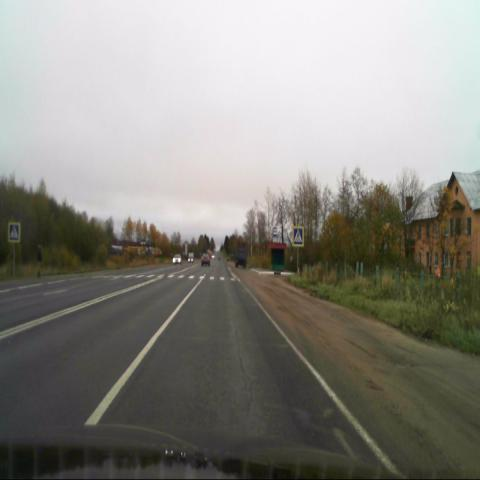5_19_1: (292, 225, 304, 247), (8, 222, 20, 243)
